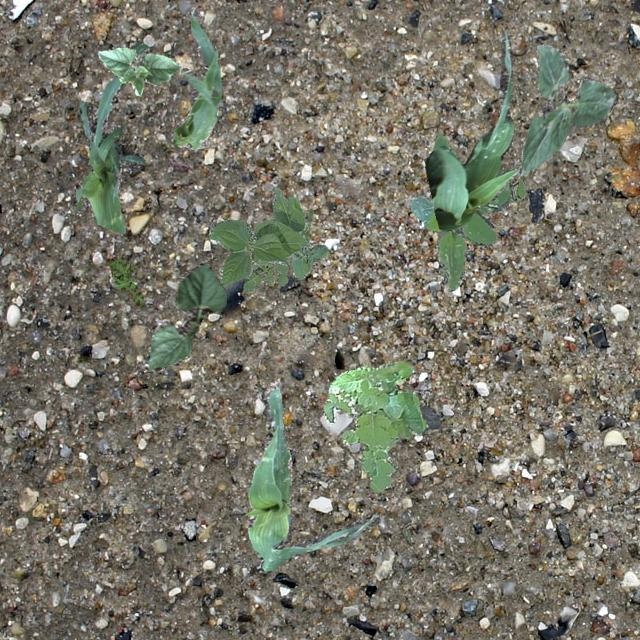crop: (245, 380, 378, 570), (424, 31, 520, 230), (68, 42, 148, 232), (518, 44, 616, 175), (208, 186, 312, 286), (142, 262, 225, 372), (170, 5, 220, 148), (97, 46, 179, 96)
weed: (410, 133, 512, 290), (322, 360, 424, 490), (242, 244, 328, 292), (108, 254, 144, 308), (508, 178, 524, 200)
